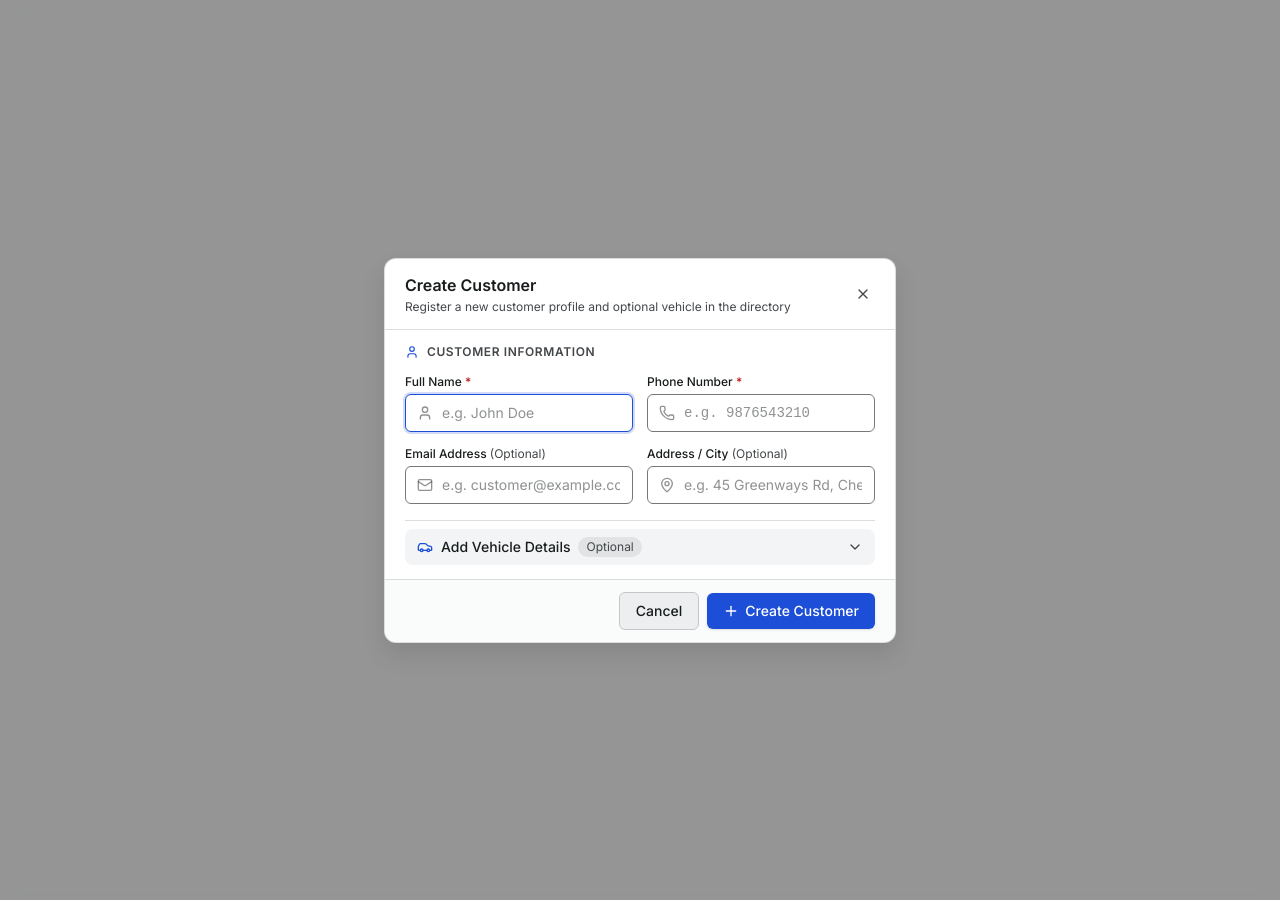
it: CreateCustomerModal Component › validates vehicle fields when vehicle section is expanded
The image size is (1280, 900).
Type "Jane Doe" into the field with placeholder "e.g. John Doe" at (519, 412), box [405,394,633,432]
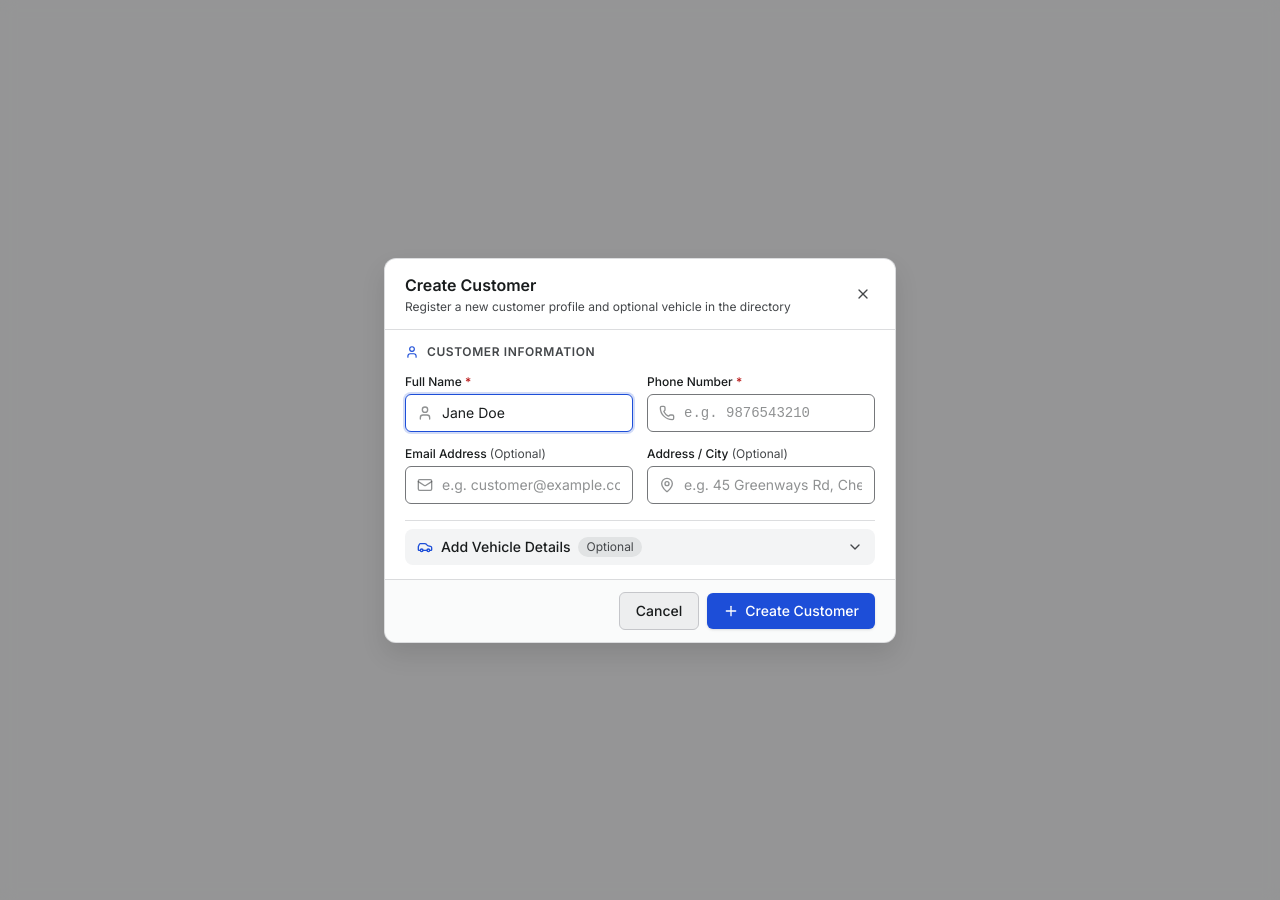
Type "9876543210" into the field with placeholder "e.g. 9876543210" at (761, 412), box [647,394,875,432]
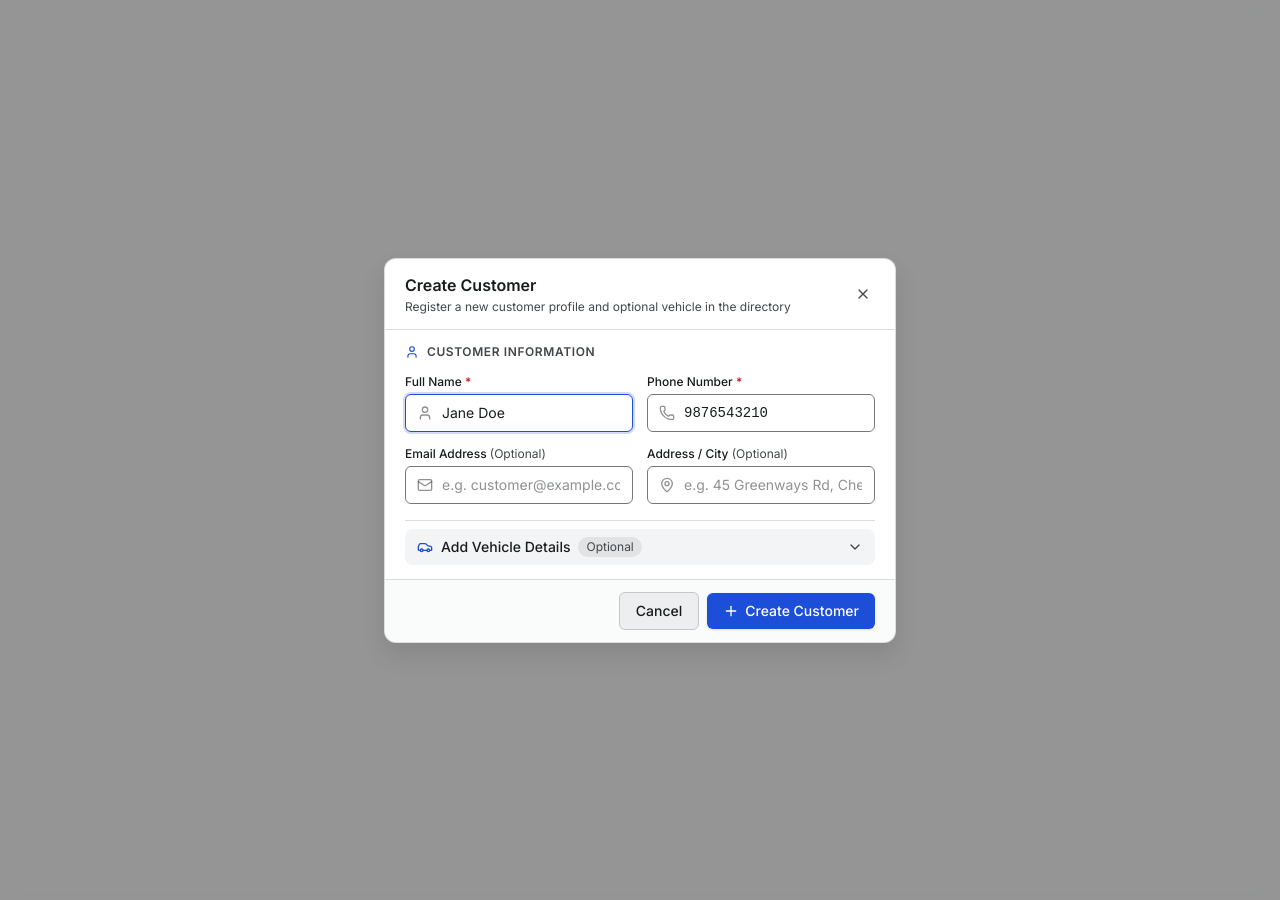
// Toggle vehicle section
Click the button "Add Vehicle Details Optional" at (640, 546), box [405,528,875,564]
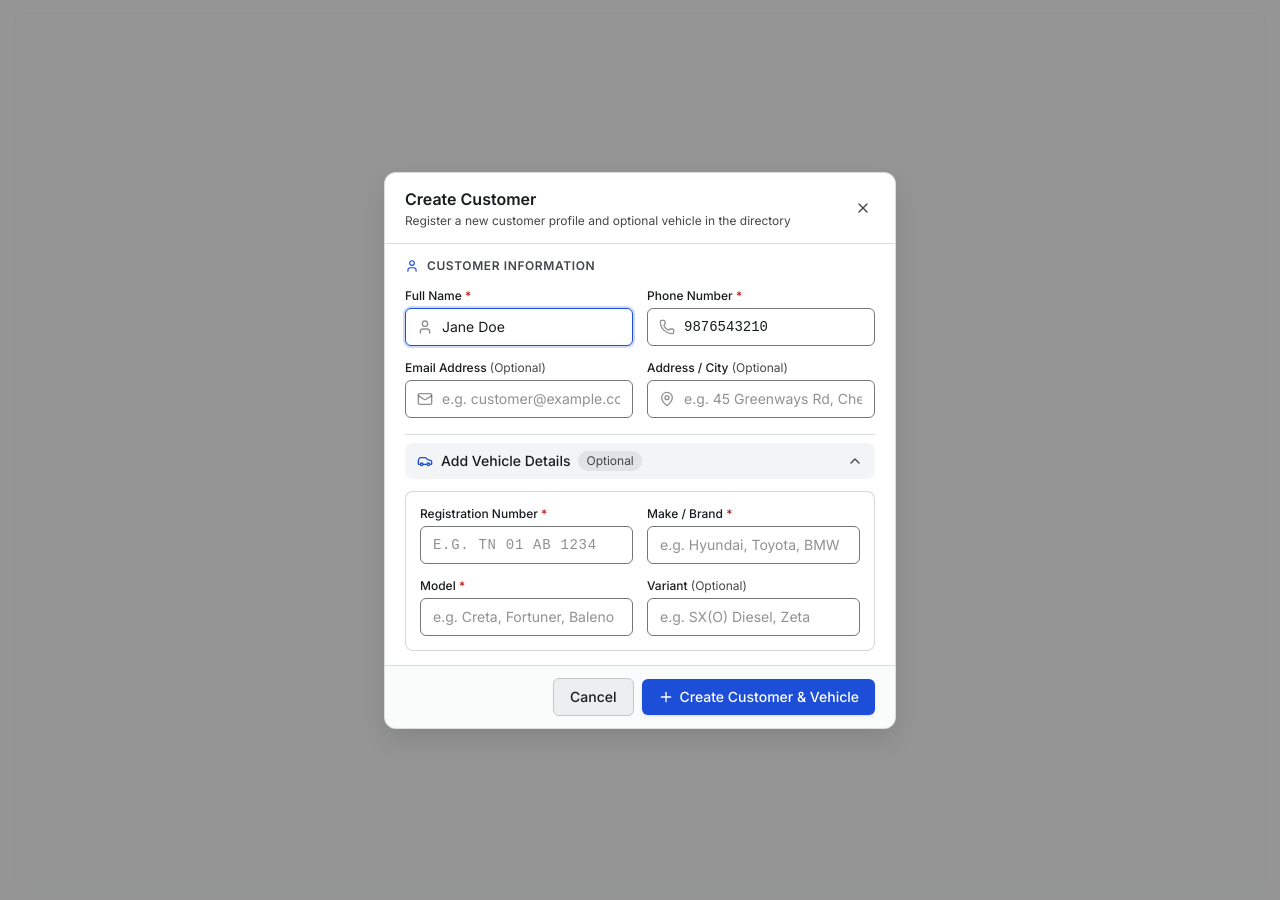
Result: the field with placeholder "e.g. TN 01 AB 1234" is shown at [420,526,633,564]
Click the button "Create Customer & Vehicle" at (758, 696), box [642,678,875,714]
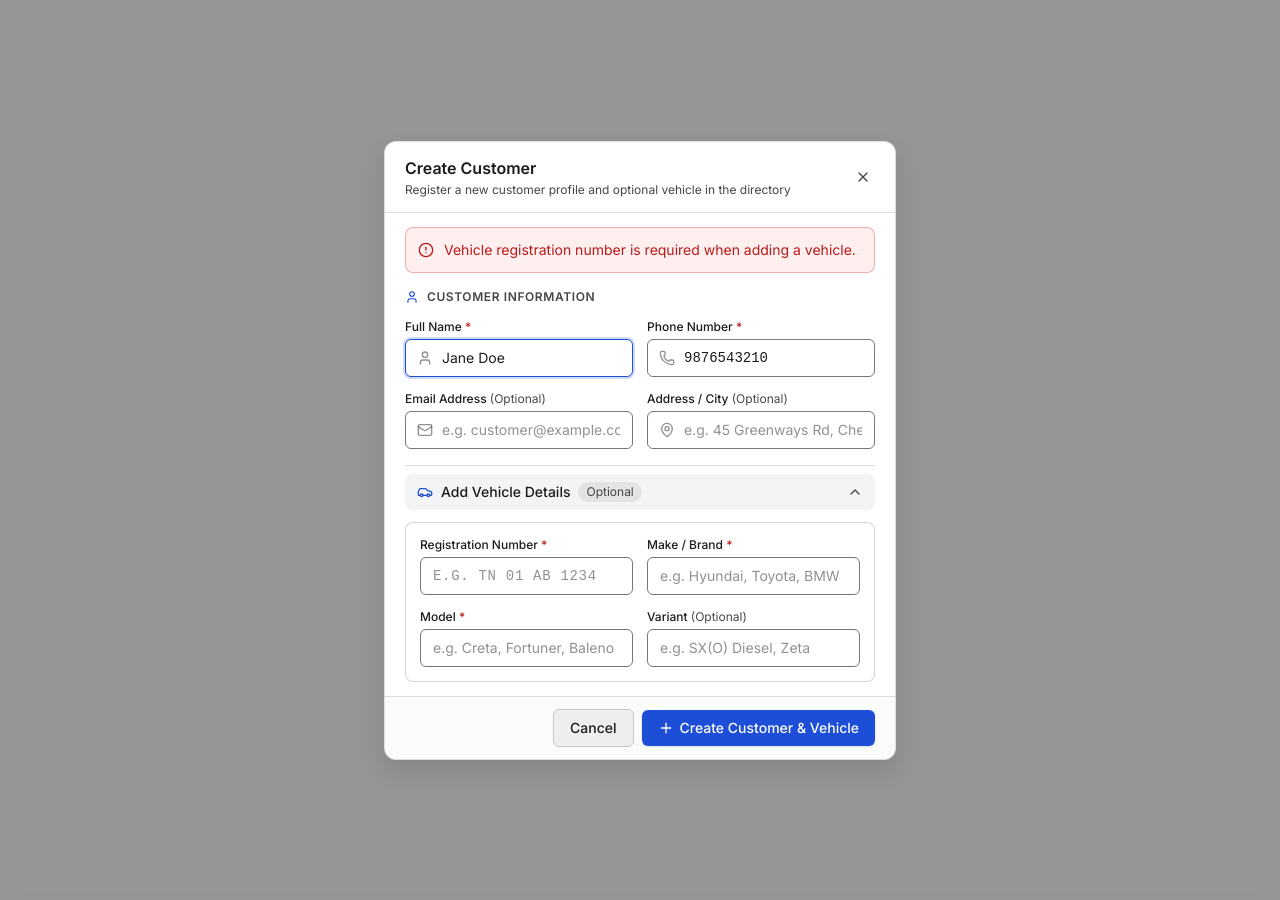
Result: the text "Vehicle registration number is required when adding a vehicle." is shown at [444,240,856,260]
